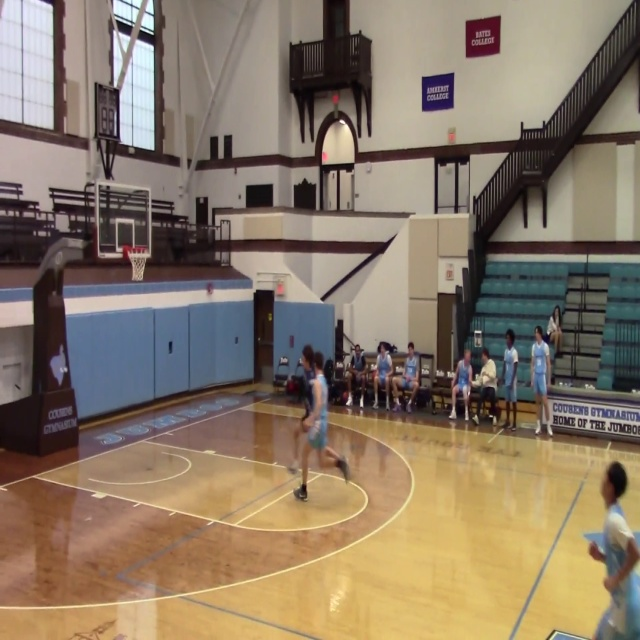Basketball: (319, 446, 339, 468)
